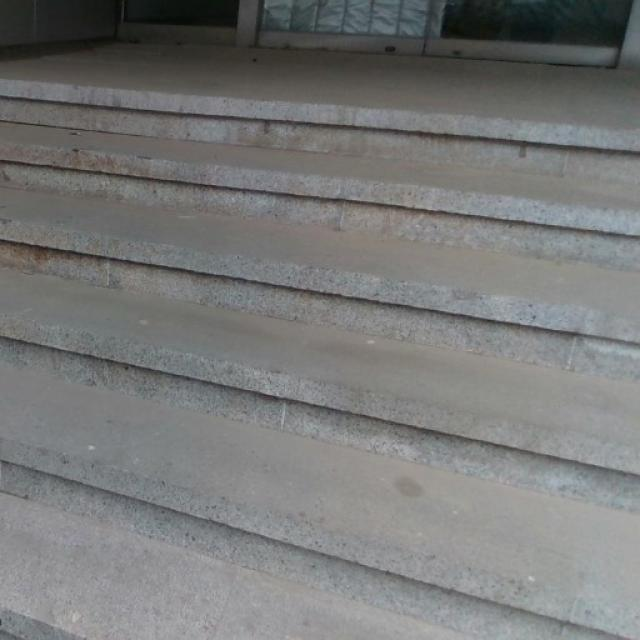Stairs: (0, 71, 639, 639)
